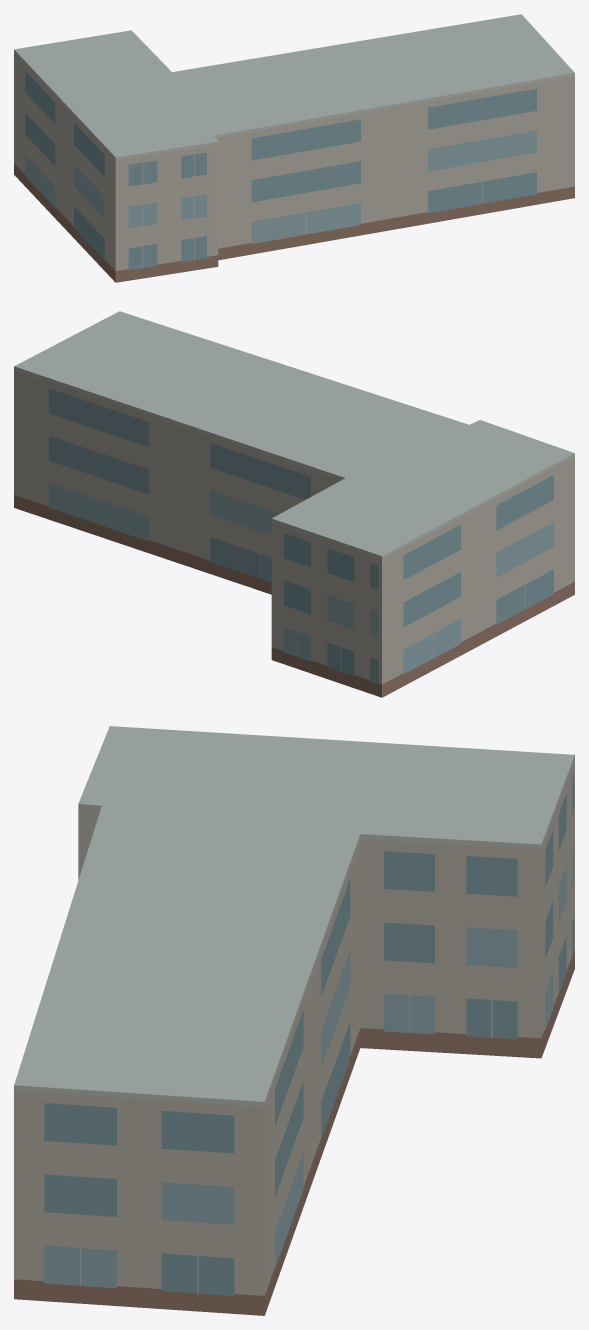
File: survey-upis-32730036.glb
3 views of the same model, one above another, from view 1: azimuth 30°, elevation 25°; view 2: azimuth 150°, elevation 25°; view 3: azimuth 270°, elevation 25° (orthographic). The views are drawn at different scales.
Visible parts, largest first — view 1: survey-upis-32730036.tmp; view 2: survey-upis-32730036.tmp; view 3: survey-upis-32730036.tmp.
Part boxes in pixels (left/top/right/bottom): survey-upis-32730036.tmp: left=14, top=14, right=574, bottom=282; survey-upis-32730036.tmp: left=14, top=311, right=574, bottom=697; survey-upis-32730036.tmp: left=14, top=726, right=574, bottom=1315.
Bounding box in the file's own units: 38.45 × 10.2 × 24.24.
